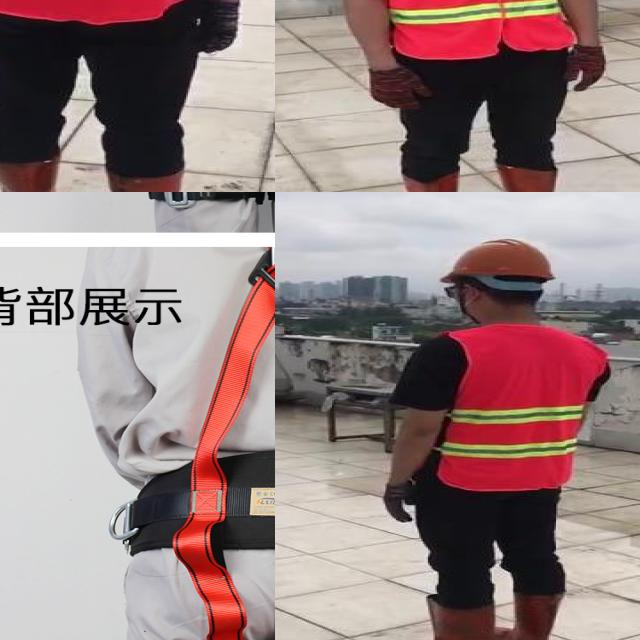Harness: (166, 248, 275, 640)
boots: (385, 597, 495, 640), (501, 588, 565, 640), (495, 165, 595, 192), (99, 170, 204, 192), (0, 158, 59, 192), (399, 171, 470, 192)
hand_glove: (369, 67, 430, 110), (198, 0, 240, 51), (566, 44, 608, 93), (378, 482, 419, 521)
head_helmet: (437, 234, 558, 282)
person: (359, 234, 617, 640), (313, 0, 619, 192), (0, 0, 275, 192)
vest: (438, 324, 608, 489), (376, 0, 570, 58)
